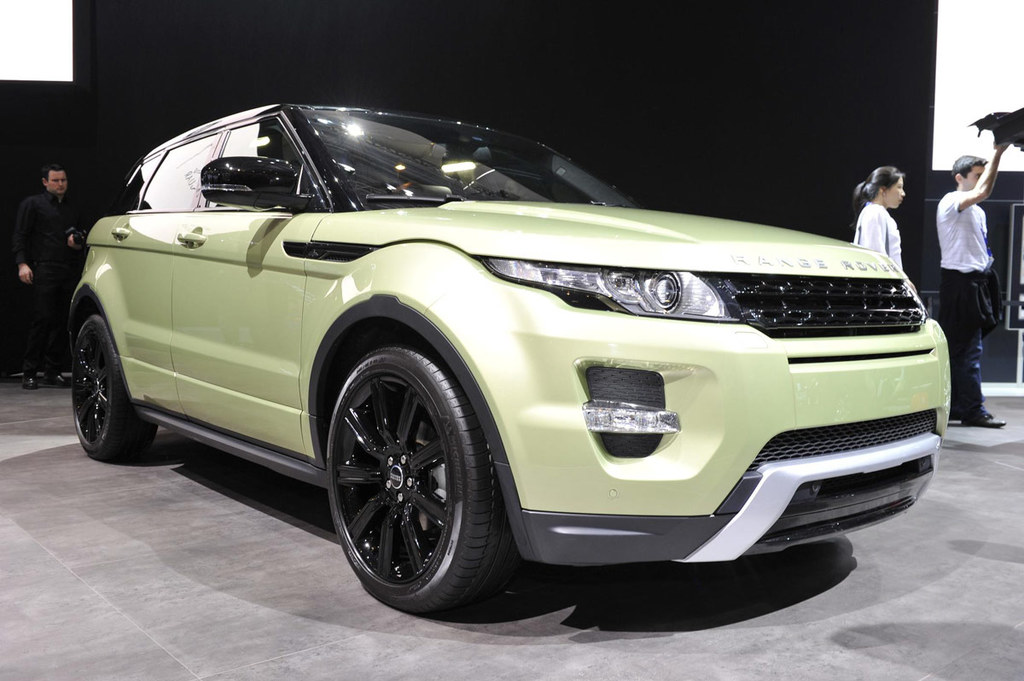Car: (68, 95, 951, 612)
